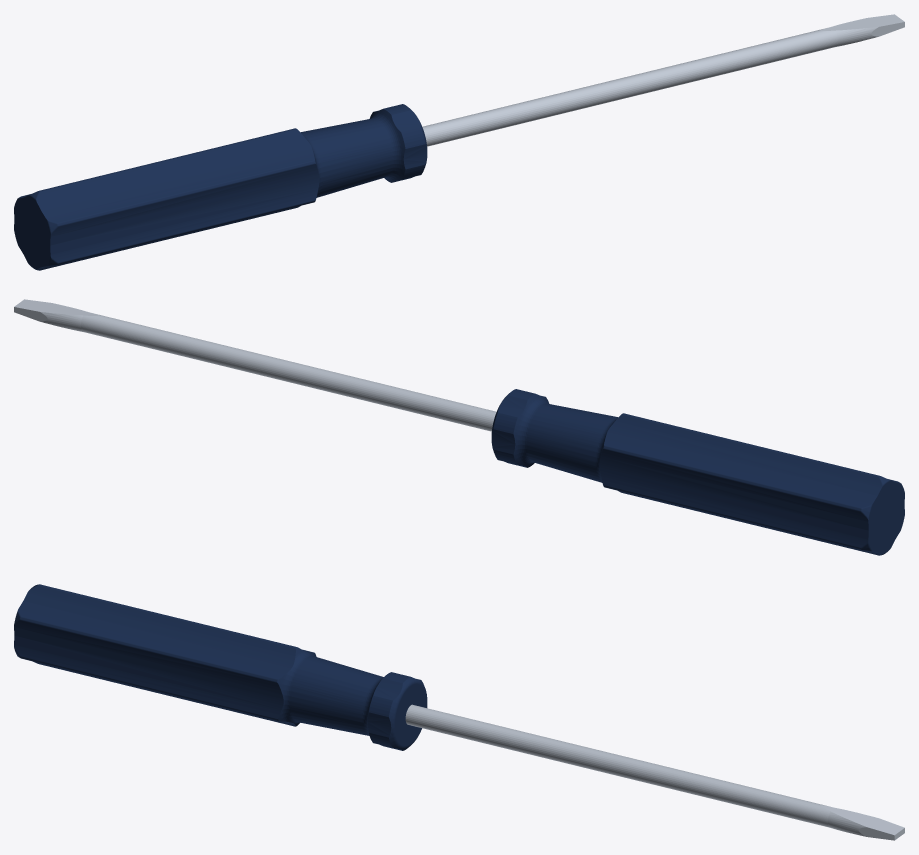
File: screwdriver.obj
3 views of the same model, one above another, from view 1: azimuth 30°, elevation 25°; view 2: azimuth 150°, elevation 25°; view 3: azimuth 330°, elevation 25° (orthographic).
Bounding box in the file's own units: 0.18 × 0.0156 × 0.0138.
